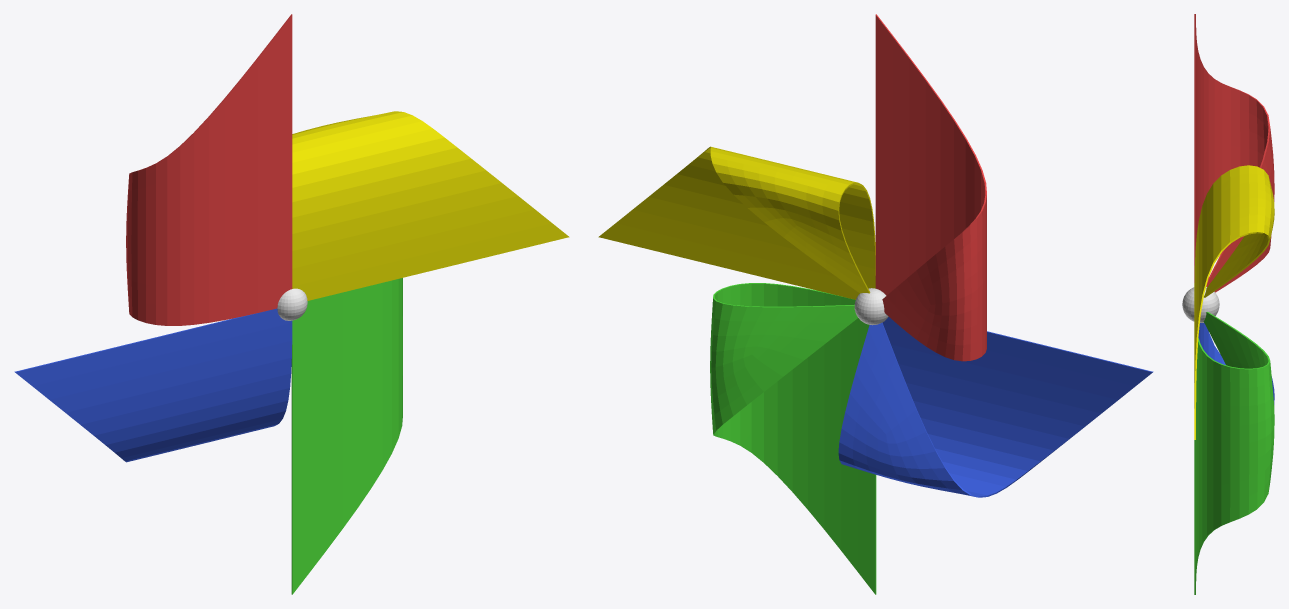
The model's file is pinwheel.glb.
The picture shows the model from 3 angles, left to right: view 1: azimuth 30°, elevation 25°; view 2: azimuth 150°, elevation 25°; view 3: azimuth 270°, elevation 25°; orthographic projection.
Visible parts, largest first — view 1: Blade1, Blade4, Blade2, Blade3, Pin; view 2: Blade2, Blade3, Blade1, Blade4, Pin; view 3: Blade3, Blade1, Blade4, Pin, Blade2.
Boxes of the visible parts, x1=… form: Blade1: x1=126, y1=14, x2=292, y2=325; Blade4: x1=292, y1=111, x2=569, y2=300; Blade2: x1=14, y1=308, x2=292, y2=462; Blade3: x1=291, y1=278, x2=402, y2=594; Pin: x1=277, y1=288, x2=307, y2=320; Blade2: x1=838, y1=317, x2=1153, y2=497; Blade3: x1=710, y1=283, x2=876, y2=594; Blade1: x1=875, y1=14, x2=986, y2=361; Blade4: x1=598, y1=146, x2=875, y2=299; Pin: x1=854, y1=288, x2=888, y2=325; Blade3: x1=1194, y1=312, x2=1274, y2=594; Blade1: x1=1194, y1=14, x2=1274, y2=292; Blade4: x1=1194, y1=165, x2=1274, y2=439; Pin: x1=1182, y1=287, x2=1219, y2=322; Blade2: x1=1198, y1=323, x2=1274, y2=404.
Size of the model in its own units: 0.1981 by 0.1981 by 0.0285.
